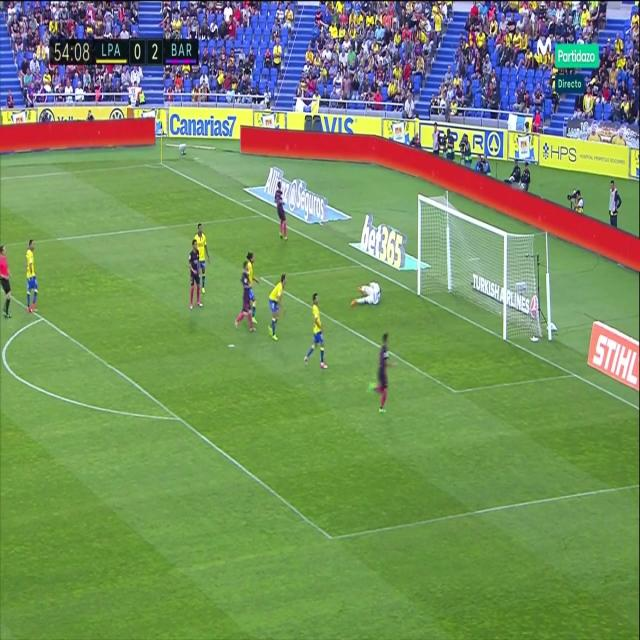Goalkeeper: (349, 280, 385, 310)
Player: (368, 328, 399, 416), (302, 291, 329, 373), (233, 262, 255, 334), (267, 272, 288, 342), (194, 223, 213, 293), (24, 238, 40, 316), (188, 238, 202, 312), (274, 181, 290, 244), (248, 250, 259, 326)
Referee: (0, 241, 13, 322)
